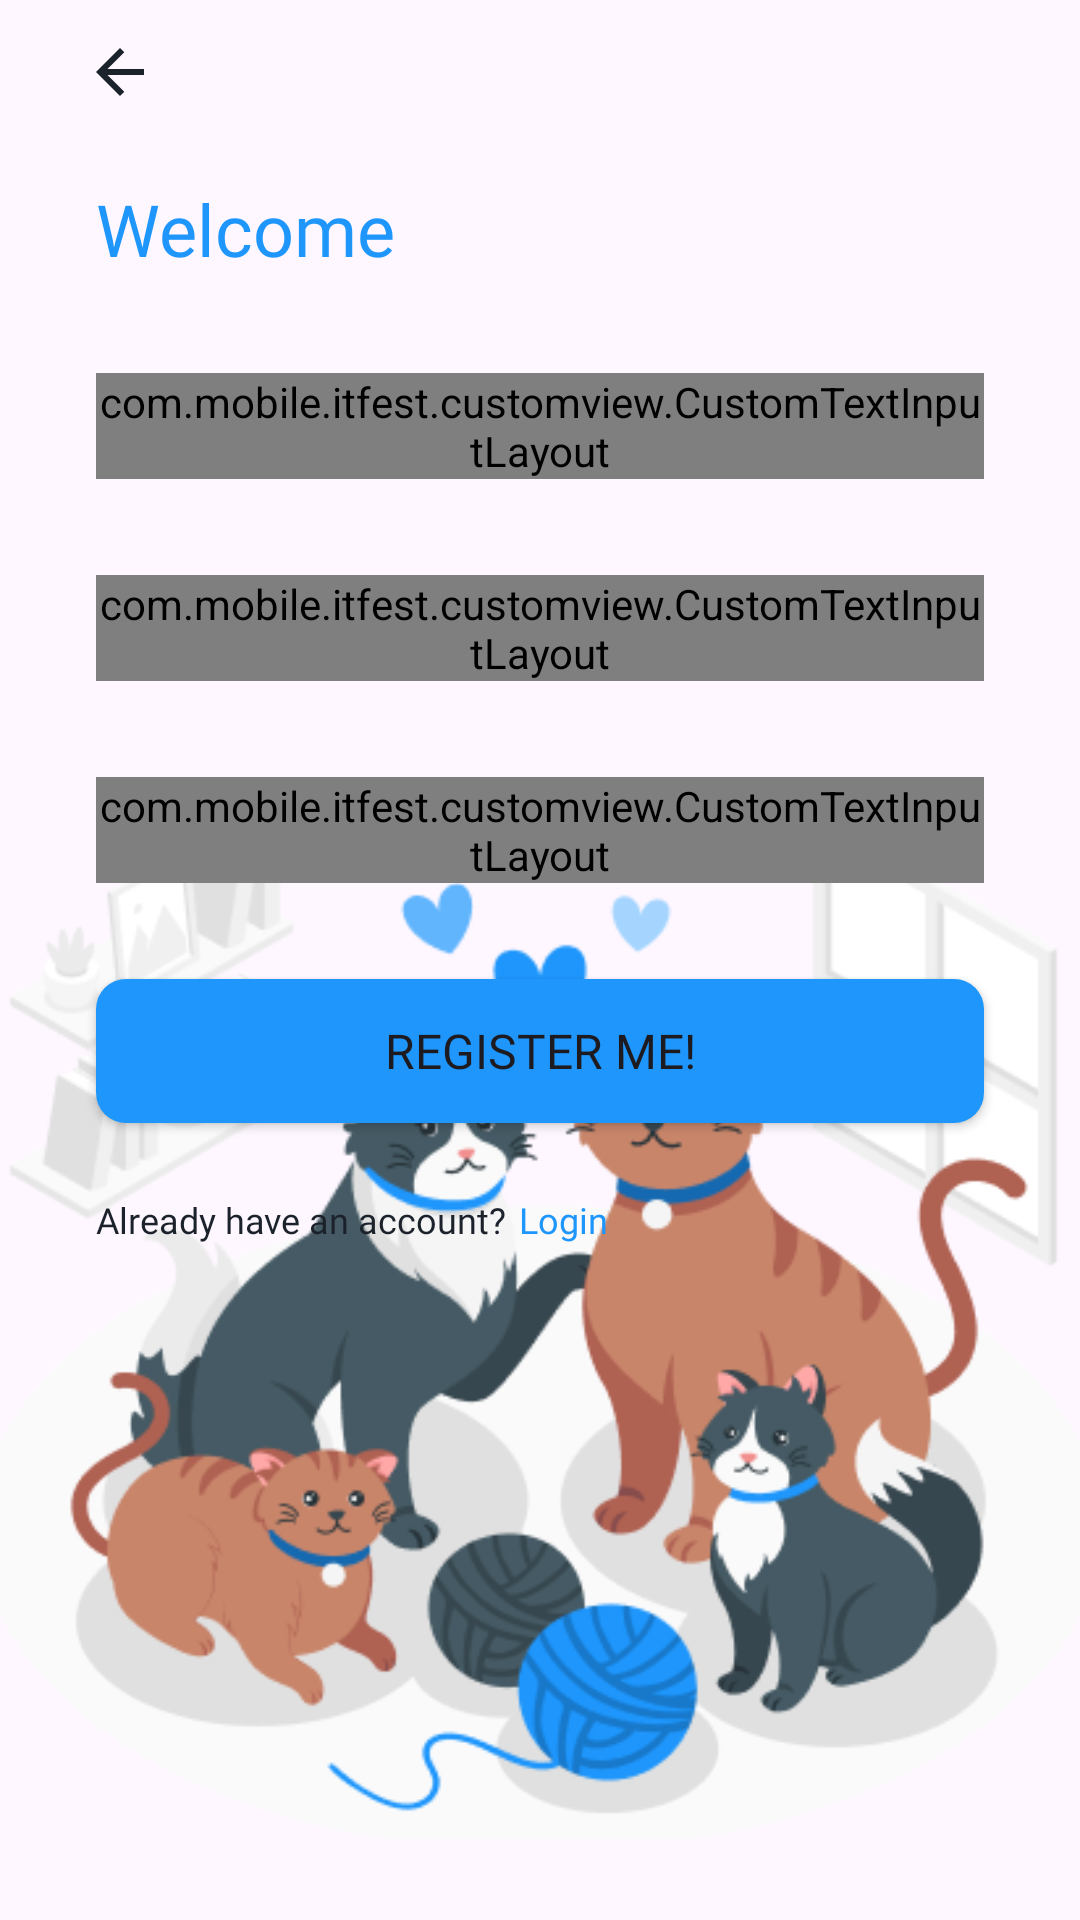

Screen size 1080 × 1920. Icon name, then its box in pixels as Rect(x1, y1, x2, y2):
back: Rect(96, 48, 144, 96)
